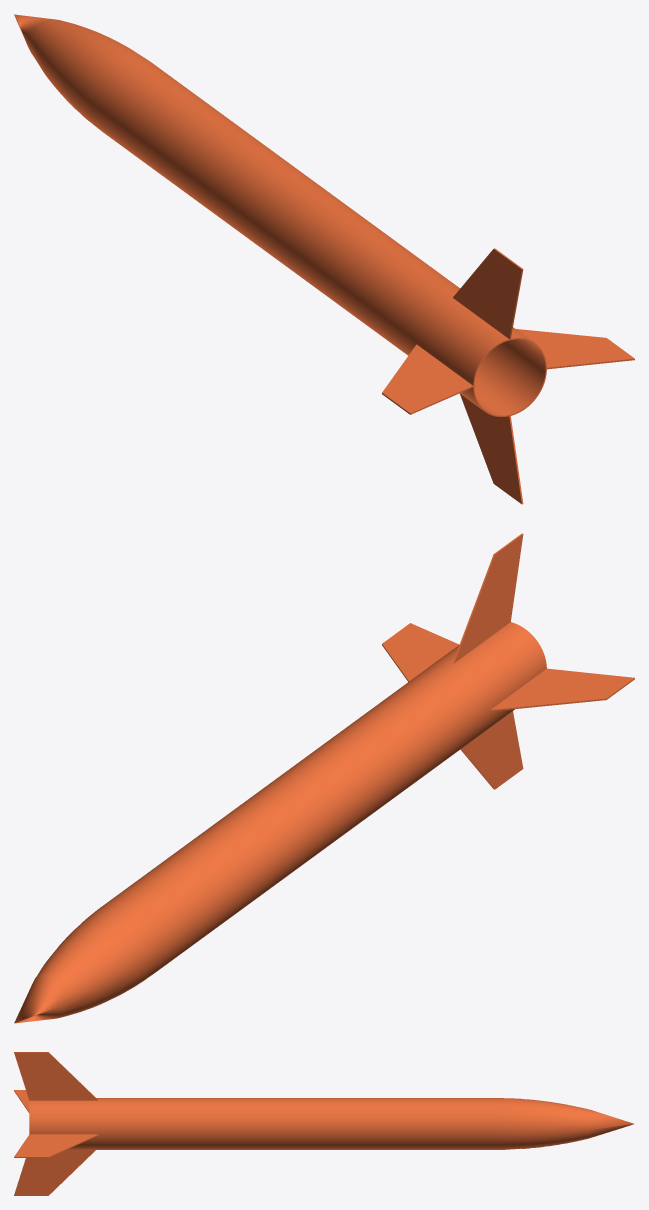
The model's file is rocket.glb.
3 renders of one model, top to bottom at view 1: azimuth 30°, elevation 25°; view 2: azimuth 150°, elevation 25°; view 3: azimuth 270°, elevation 25°, orthographic. The views are drawn at different scales.
Visible parts, largest first — view 1: rocket; view 2: rocket; view 3: rocket.
Part boxes in pixels (left/top/right/bottom): rocket: left=14, top=14, right=634, bottom=504; rocket: left=14, top=533, right=634, bottom=1023; rocket: left=14, top=1052, right=633, bottom=1195.
Size of the model in its own units: 457 by 457 by 1794.
